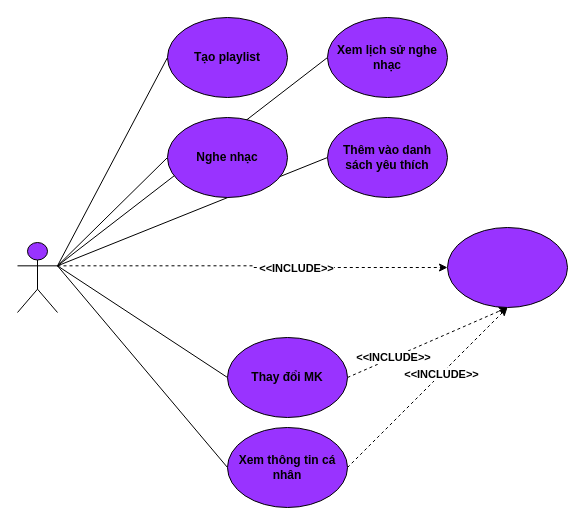
Some shapes in this 585 by 525 pixel diagram are drawn without their labels. Each missing label, with the centre of its shape:
"USER" goes at (37,277).
"Đăng nhập" goes at (507,267).
